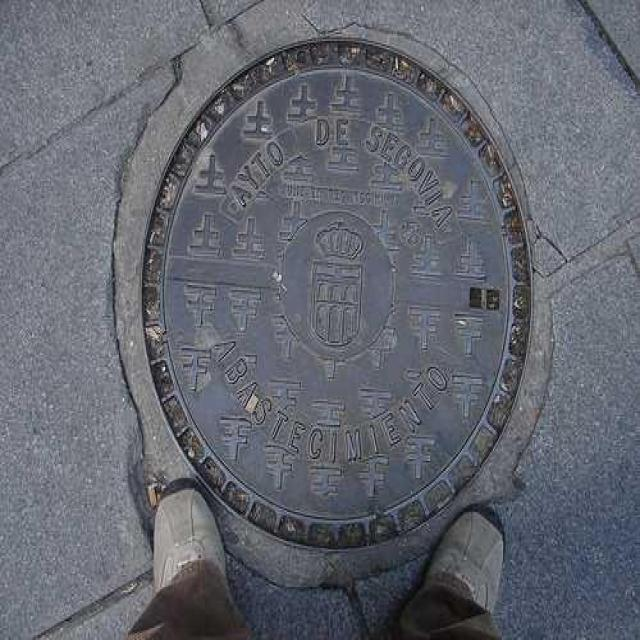manhole: (145, 42, 530, 548)
